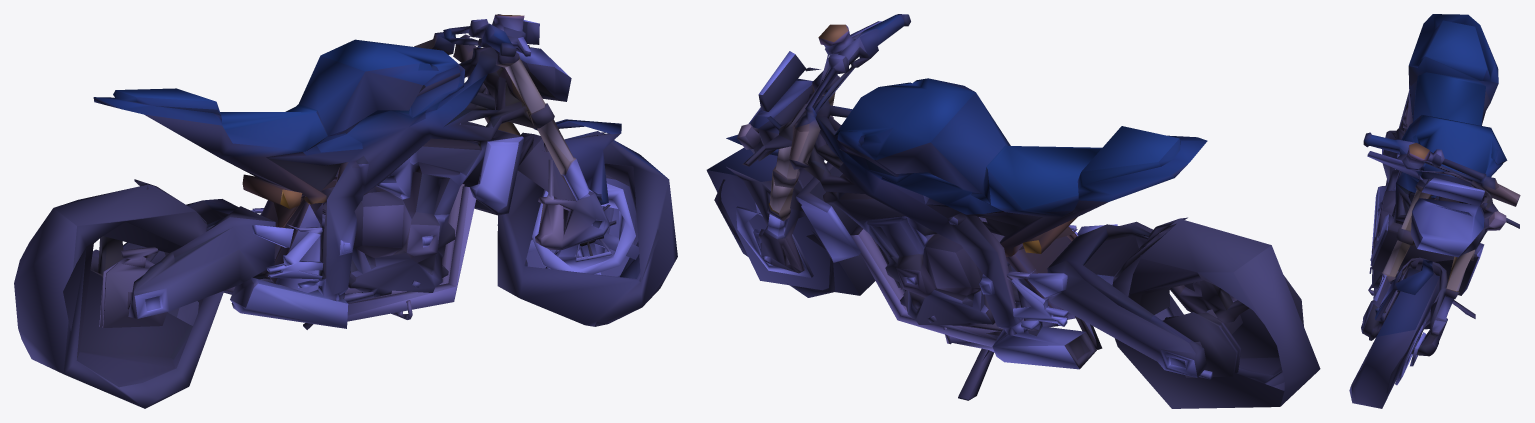
Rendered from model.progressive.glb.
The picture shows the model from 3 angles, left to right: view 1: azimuth 30°, elevation 25°; view 2: azimuth 150°, elevation 25°; view 3: azimuth 270°, elevation 25°; orthographic projection. The views are drawn at different scales.
Visible parts, largest first — view 1: material; view 2: material; view 3: material.
Boxes of the visible parts, x1,y1,x2,y2 form: material: [14, 14, 677, 408]; material: [706, 14, 1320, 408]; material: [1349, 14, 1520, 408].
Bounding box in the file's own units: 1.83 × 0.8728 × 0.582.
Materials: 1 (1 with a texture image).
